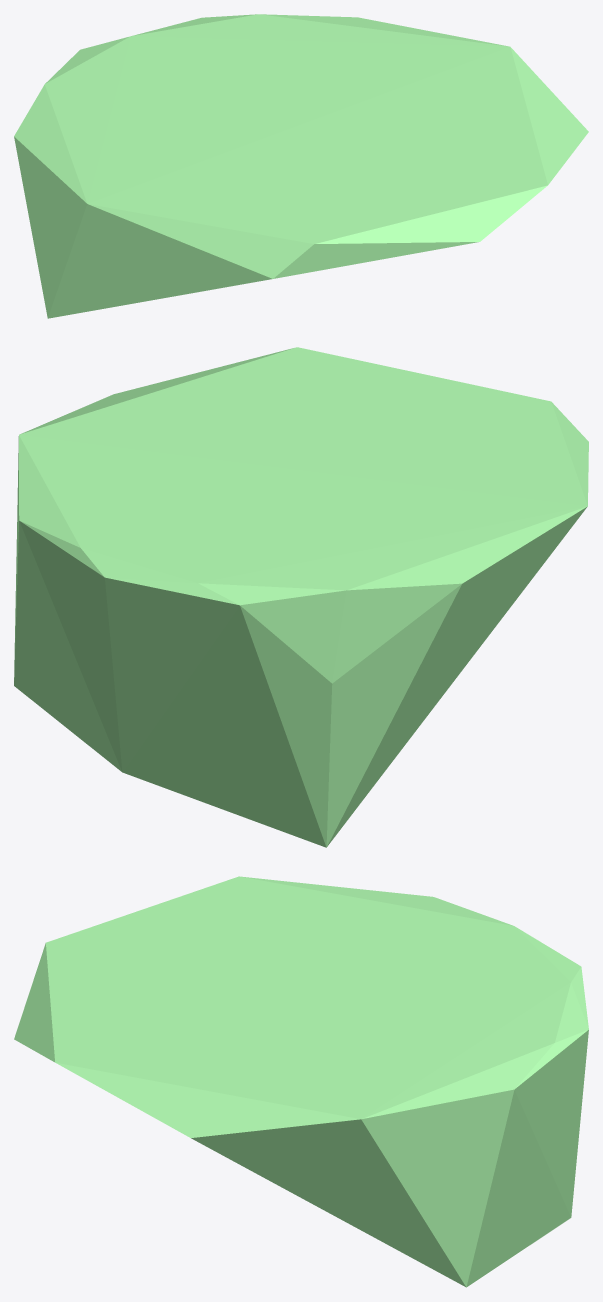
The model's file is linkhou_LR4_R560_link3_respondable_coll_11.dae.
3 views of the same model, one above another, from view 1: azimuth 30°, elevation 25°; view 2: azimuth 150°, elevation 25°; view 3: azimuth 270°, elevation 25° (orthographic). The views are drawn at different scales.
Visible parts, largest first — view 1: Node_00000209DB3AB530; view 2: Node_00000209DB3AB530; view 3: Node_00000209DB3AB530.
Boxes of the visible parts, x1,y1,x2,y2 form: Node_00000209DB3AB530: (14,14,588,318); Node_00000209DB3AB530: (14,347,588,847); Node_00000209DB3AB530: (14,876,588,1287).
Size of the model in its own units: 0.1159 by 0.0564 by 0.1185.
